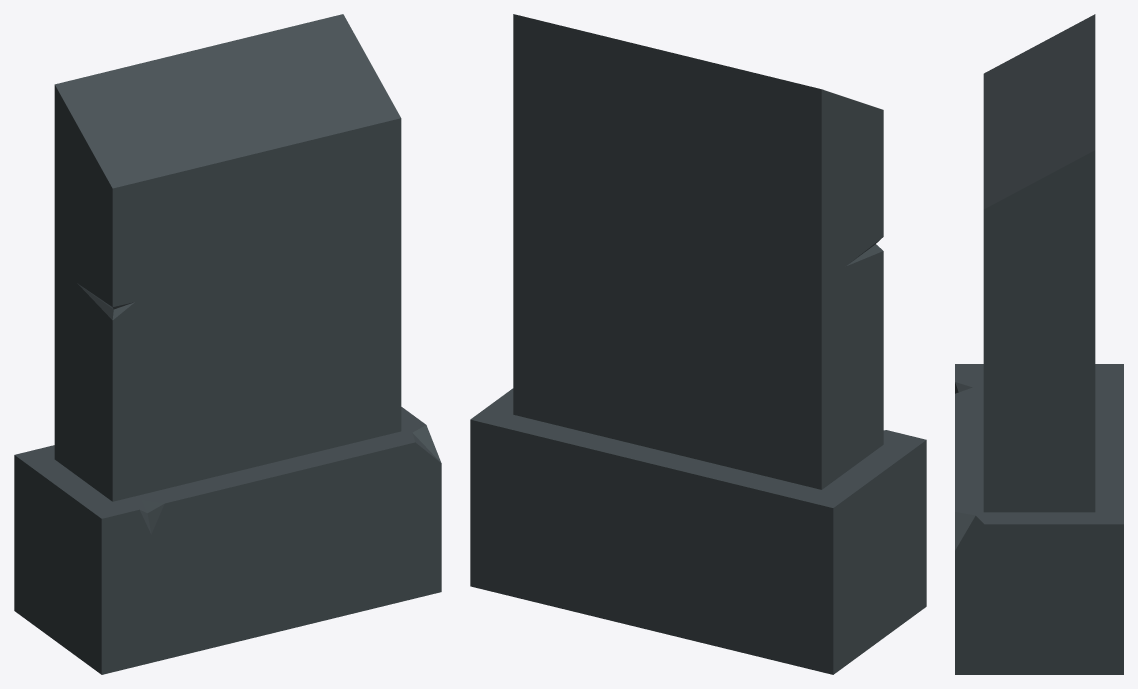
Rendered from tombstone_10.fbx.
The picture shows the model from 3 angles, left to right: view 1: azimuth 30°, elevation 25°; view 2: azimuth 150°, elevation 25°; view 3: azimuth 270°, elevation 25°; orthographic projection. The views are drawn at different scales.
Visible parts, largest first — view 1: tombstone9; view 2: tombstone9; view 3: tombstone9.
Part boxes in pixels (bbox=[...]): tombstone9: bbox=[14, 14, 441, 674]; tombstone9: bbox=[470, 14, 926, 674]; tombstone9: bbox=[955, 14, 1123, 674].
Bounding box in the file's own units: 0.5395 × 0.8058 × 0.2405.
